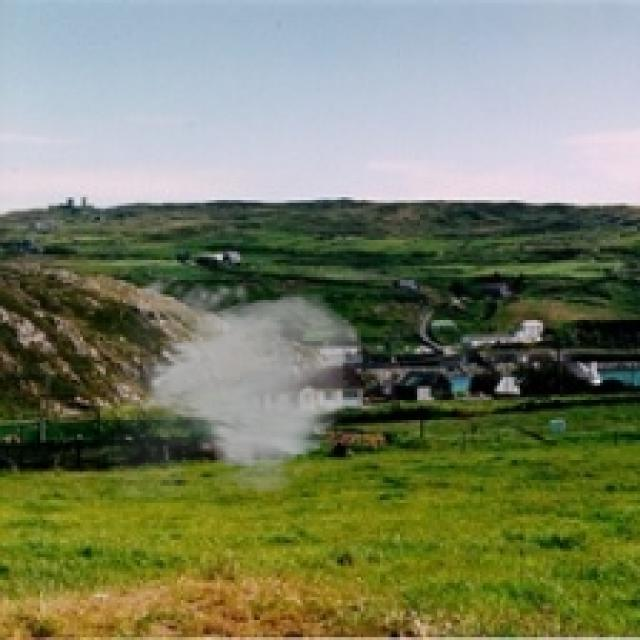Smoke: (114, 268, 366, 501)
